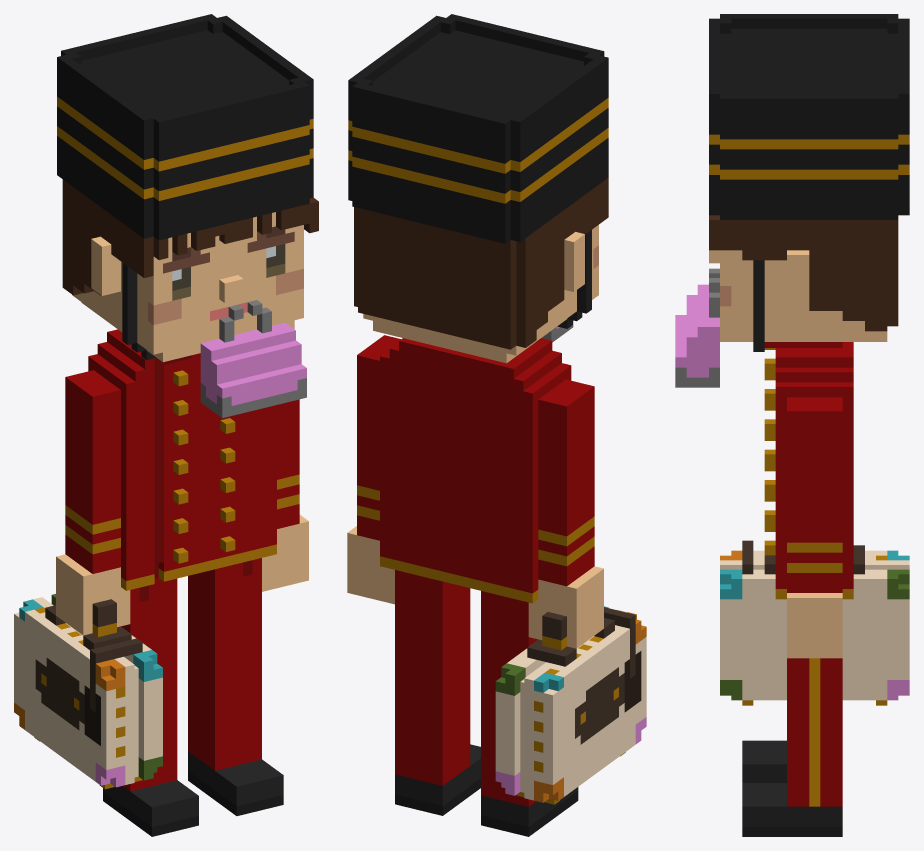
The model's file is Bellhop.obj.
The picture shows the model from 3 angles, left to right: view 1: azimuth 30°, elevation 25°; view 2: azimuth 150°, elevation 25°; view 3: azimuth 270°, elevation 25°; orthographic projection. The views are drawn at different scales.
Size of the model in its own units: 2.5 by 7.4 by 2.1.
